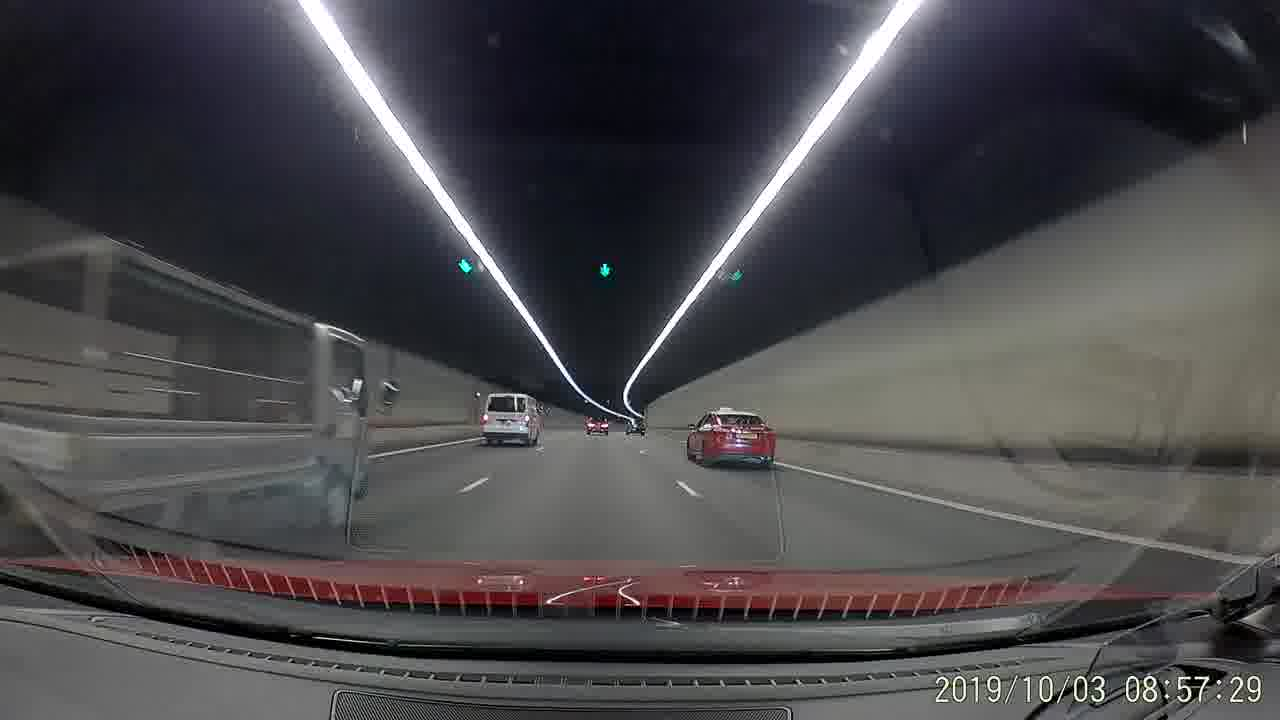car: (687, 404, 775, 470), (584, 415, 611, 435), (624, 416, 646, 436)
